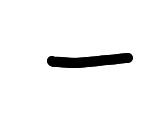minus: (47, 53, 133, 68)
